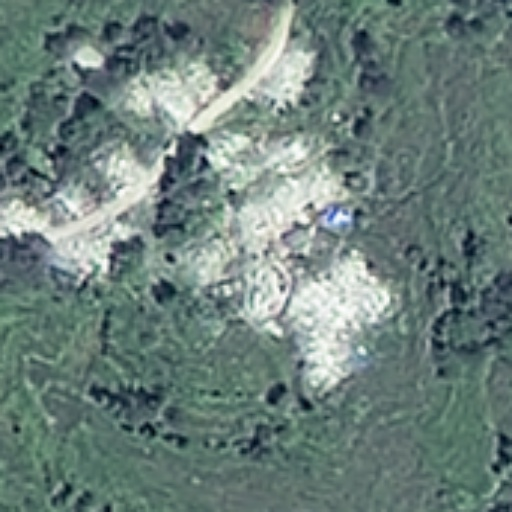landslide: (106, 73, 390, 386)
